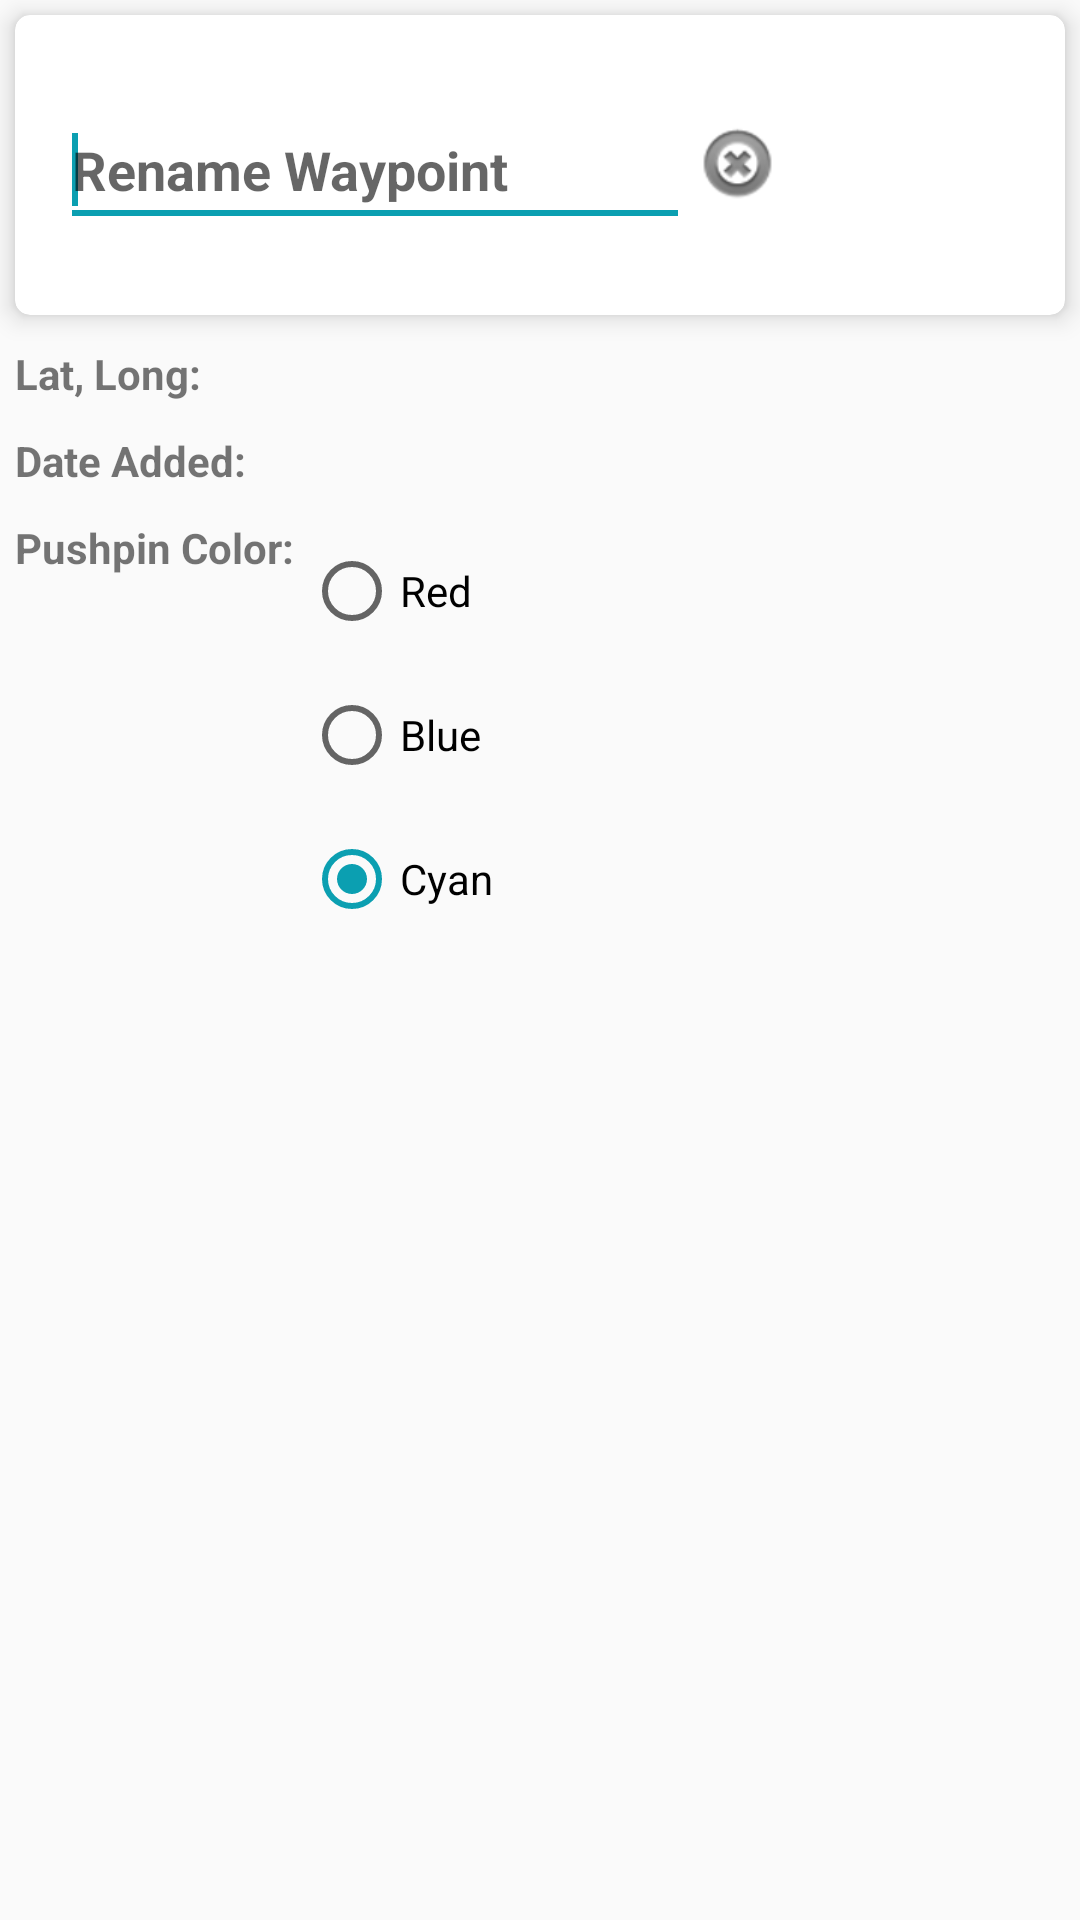

Icons on this 1080px x 1920px Android screen, each with the point to tap as point (x, y):
Clear Name: point (737, 163)
